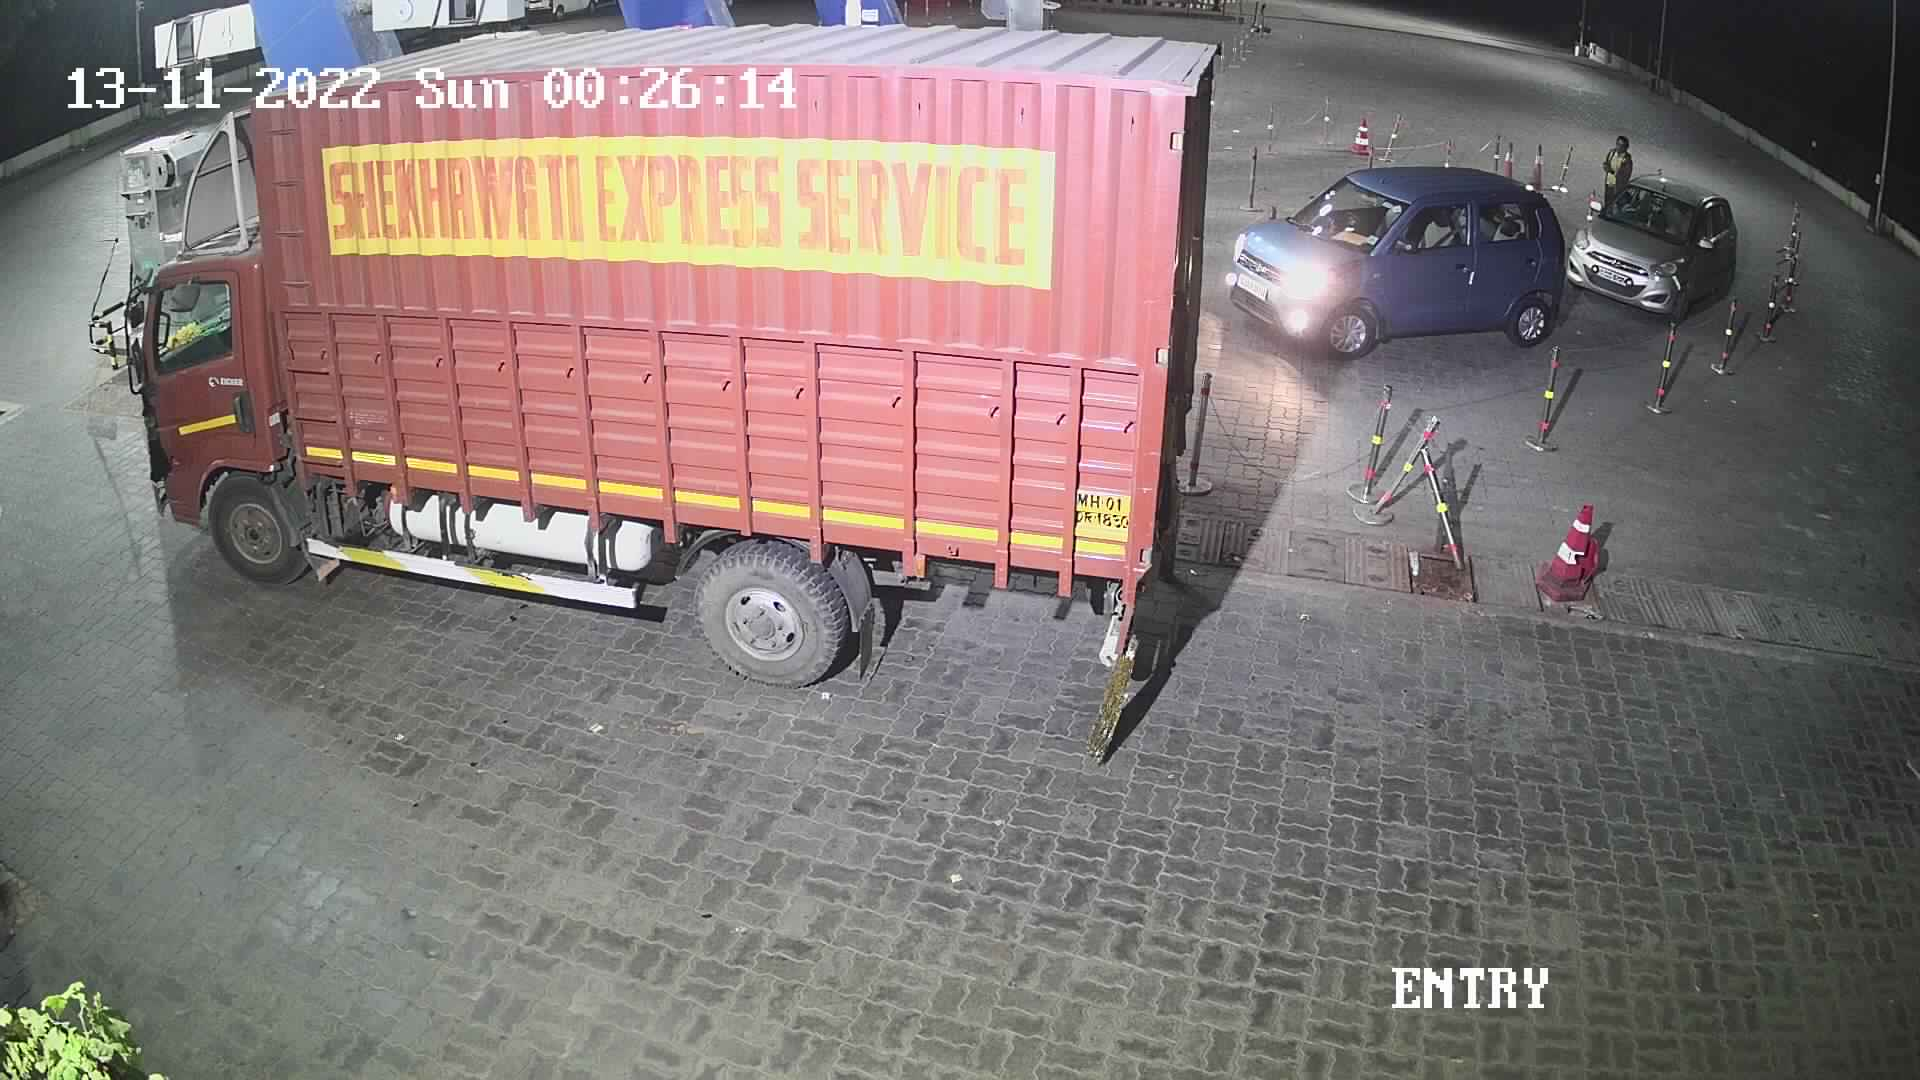Car: (1215, 153, 1573, 363), (1556, 165, 1749, 334)
HMV: (105, 0, 1242, 775)
